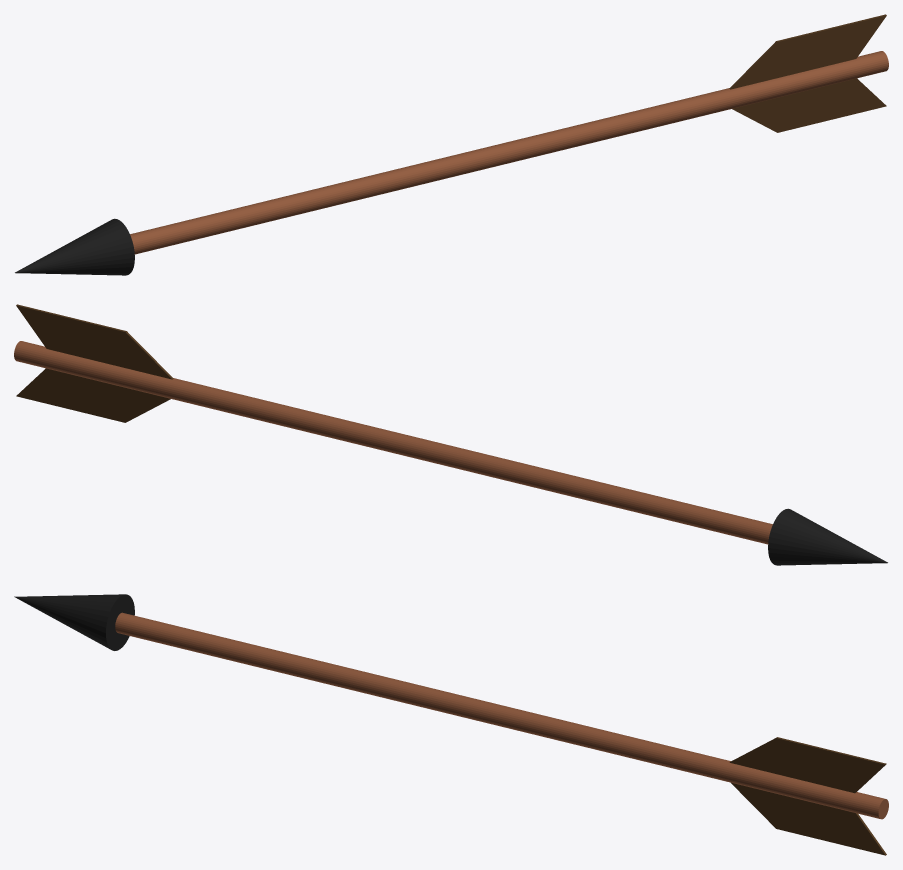
The model's file is Arrow_only.fbx.
3 views of the same model, one above another, from view 1: azimuth 30°, elevation 25°; view 2: azimuth 150°, elevation 25°; view 3: azimuth 330°, elevation 25° (orthographic).
Visible parts, largest first — view 1: Cylinder.001, Cube.001, Cube.002, Cone; view 2: Cylinder.001, Cube.001, Cube.002, Cone; view 3: Cylinder.001, Cube.001, Cube.002, Cone.
Part boxes in pixels (bbox=[...]): Cylinder.001: bbox=[130, 51, 888, 254]; Cube.001: bbox=[729, 14, 886, 89]; Cube.002: bbox=[732, 78, 886, 132]; Cone: bbox=[15, 218, 134, 275]; Cylinder.001: bbox=[14, 341, 772, 544]; Cube.001: bbox=[16, 304, 173, 379]; Cube.002: bbox=[16, 368, 170, 422]; Cone: bbox=[768, 508, 887, 565]; Cylinder.001: bbox=[115, 612, 888, 819]; Cube.001: bbox=[729, 737, 886, 793]; Cube.002: bbox=[731, 782, 886, 855]; Cone: bbox=[14, 594, 134, 650].
Bounding box in the file's own units: 489 × 48.67 × 28.23.
